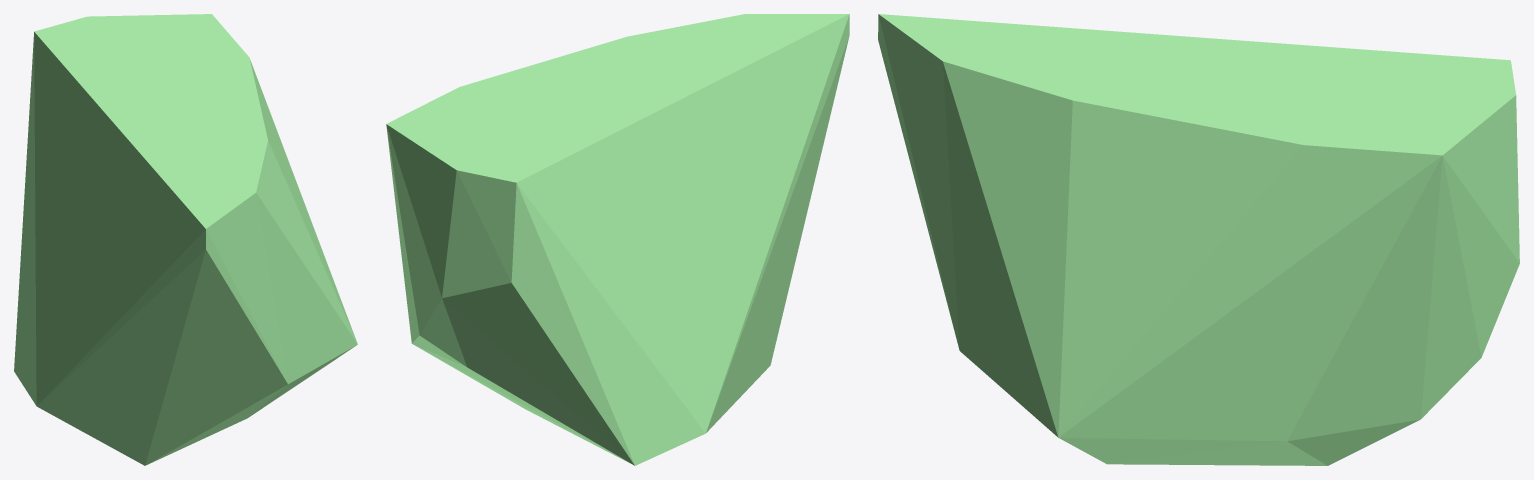
Rendered from panda_link7_resp_coll_10.dae.
The picture shows the model from 3 angles, left to right: view 1: azimuth 30°, elevation 25°; view 2: azimuth 150°, elevation 25°; view 3: azimuth 270°, elevation 25°; orthographic projection. The views are drawn at different scales.
Visible parts, largest first — view 1: node; view 2: node; view 3: node.
Boxes of the visible parts, bbox=[...] form: node: bbox=[14, 14, 357, 465]; node: bbox=[386, 14, 849, 465]; node: bbox=[878, 14, 1519, 465].
Size of the model in its own units: 0.0487 by 0.0545 by 0.0851.
